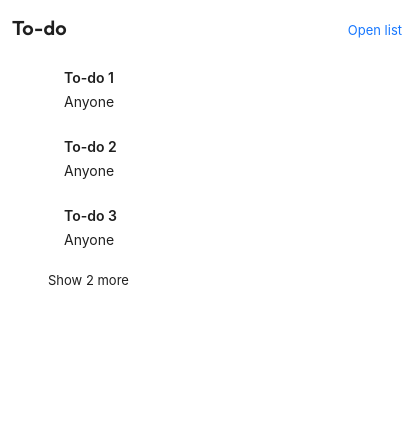
HomeTodos › offers a phone toggle for the rows past the first three, which marks the section expanded
Click the button "Show 2 more": x=70, y=278 [12, 262, 129, 293]
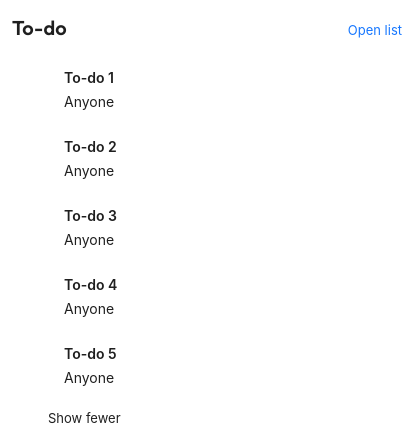
Result: the element "To-do" has attribute data-expanded
Result: the button named "Show 2 more" is expanded
Click the button "Show fewer": x=66, y=416 [12, 400, 120, 431]
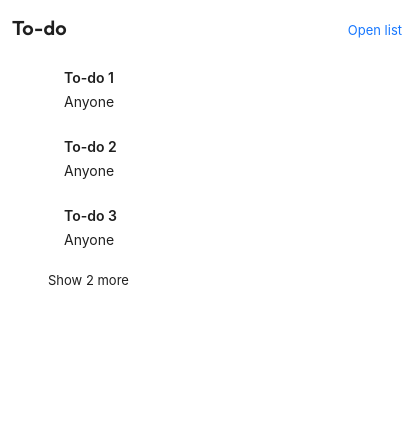
Result: the element "To-do" does not have attribute data-expanded at [12, 12, 402, 293]
